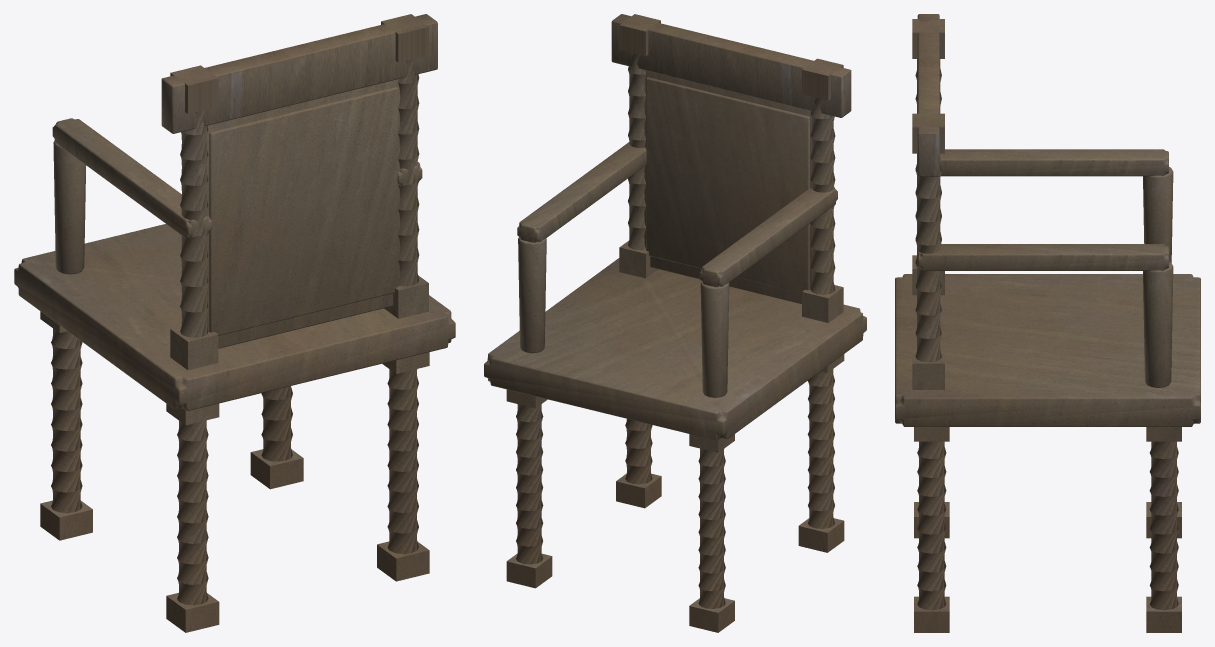
File: Antique_Chair_12.fbx
3 views of the same model, side by side, from view 1: azimuth 30°, elevation 25°; view 2: azimuth 150°, elevation 25°; view 3: azimuth 270°, elevation 25° (orthographic). The views are drawn at different scales.
Parts seen in each view (by area): view 1: Antique_Chair; view 2: Antique_Chair; view 3: Antique_Chair.
Boxes of the visible parts, x1,y1,x2,y2 form: Antique_Chair: (14,14,455,632); Antique_Chair: (484,14,866,632); Antique_Chair: (895,14,1200,632).
Bounding box in the file's own units: 0.54 × 1.02 × 0.56.
Materials: 1 (1 with a texture image).
